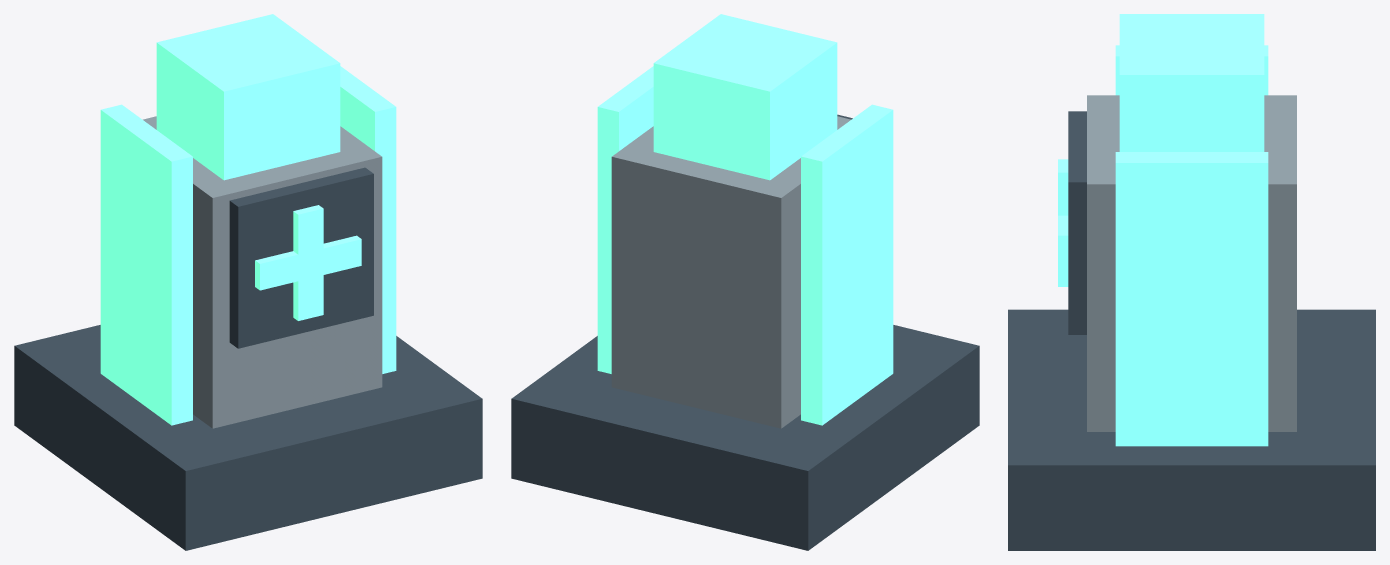
File: repair-station.glb
The picture shows the model from 3 angles, left to right: view 1: azimuth 30°, elevation 25°; view 2: azimuth 150°, elevation 25°; view 3: azimuth 270°, elevation 25°; orthographic projection. The views are drawn at different scales.
Parts seen in each view (by area): view 1: Foundation.001, EnergyStrut.002, Housing.001, Reservoir, MedicalPanel, EnergyStrut.003, CrossVertical, CrossHorizontal; view 2: Foundation.001, Housing.001, EnergyStrut.002, Reservoir, EnergyStrut.003; view 3: Foundation.001, EnergyStrut.003, Reservoir, Housing.001, MedicalPanel, CrossVertical, CrossHorizontal, EnergyStrut.002.
Boxes of the visible parts, x1,y1,x2,y2 form: Foundation.001: [14, 325, 482, 550]; EnergyStrut.002: [100, 104, 192, 425]; Housing.001: [143, 116, 382, 428]; Reservoir: [156, 14, 340, 180]; MedicalPanel: [229, 167, 373, 348]; EnergyStrut.003: [340, 66, 396, 373]; CrossVertical: [293, 205, 323, 320]; CrossHorizontal: [255, 235, 361, 290]; Foundation.001: [511, 325, 979, 550]; Housing.001: [611, 116, 850, 428]; EnergyStrut.002: [801, 104, 893, 425]; Reservoir: [653, 14, 837, 180]; EnergyStrut.003: [597, 66, 653, 373]; Foundation.001: [1008, 309, 1375, 550]; EnergyStrut.003: [1115, 152, 1268, 446]; Reservoir: [1119, 14, 1264, 151]; Housing.001: [1087, 95, 1296, 431]; MedicalPanel: [1068, 111, 1086, 334]; CrossVertical: [1058, 159, 1068, 286]; CrossHorizontal: [1058, 215, 1068, 263]; EnergyStrut.002: [1115, 45, 1268, 95].
Size of the model in its own units: 1.4 by 1.8 by 1.4.
